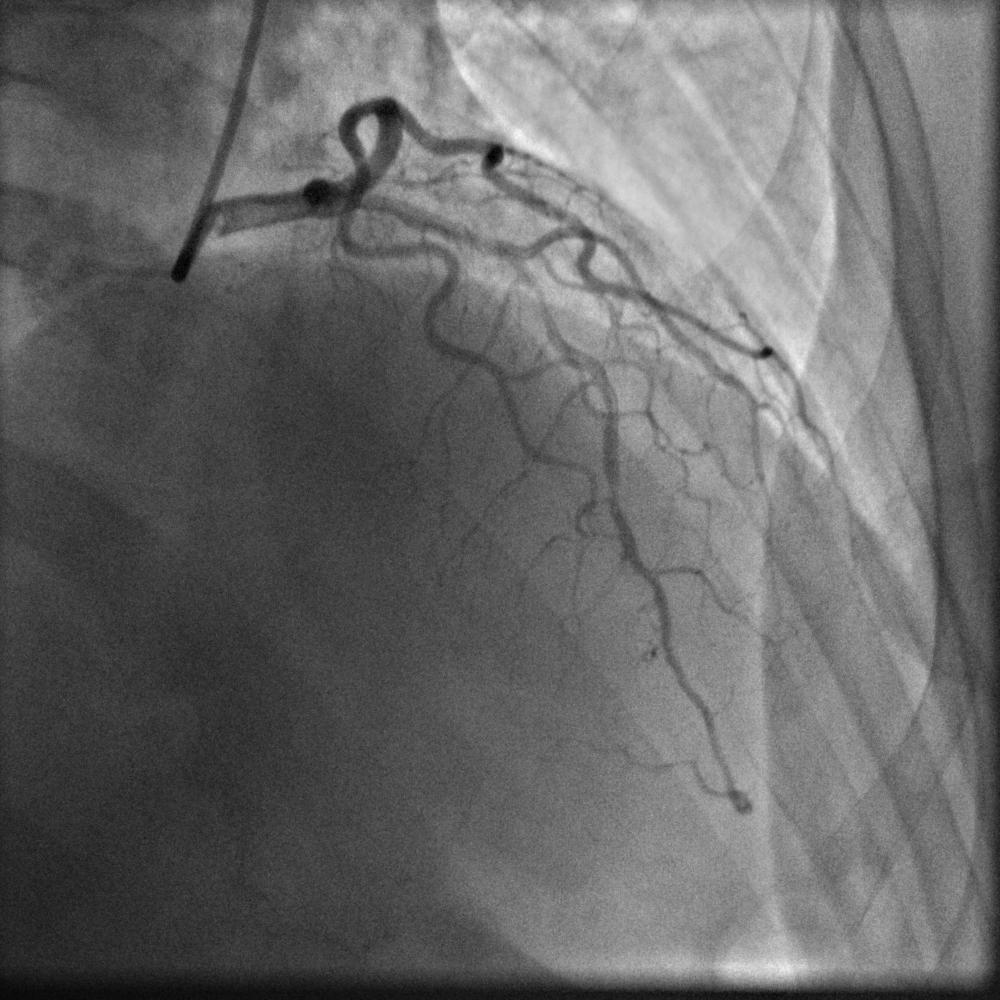Stenosis: (516, 273, 561, 344)
